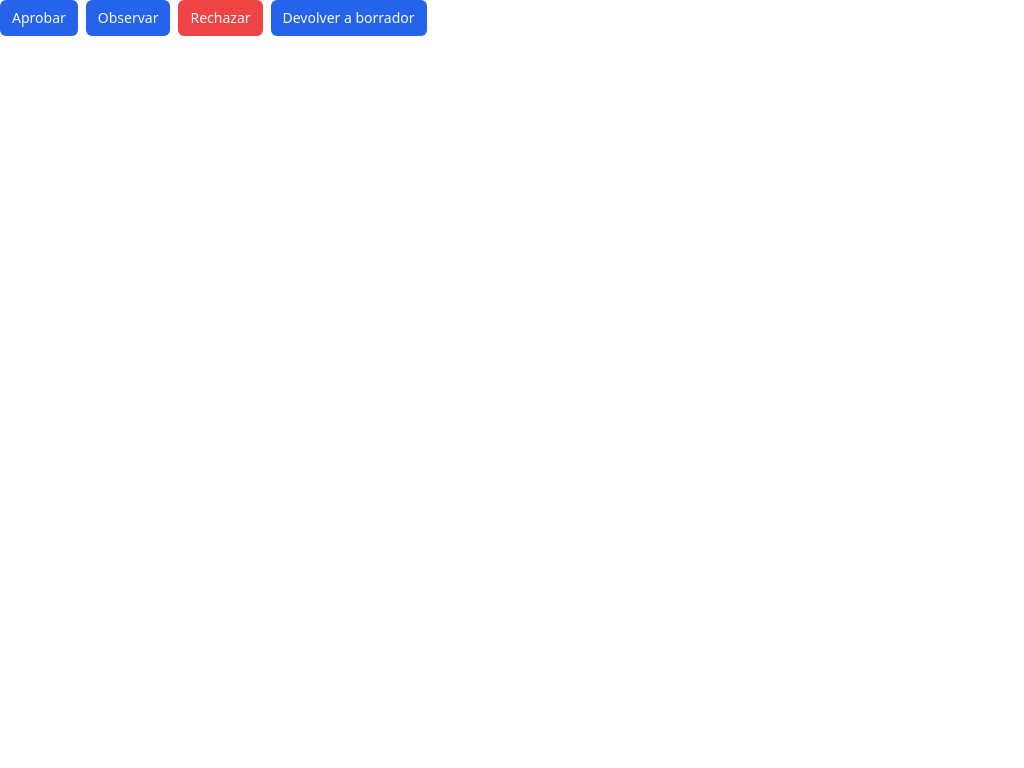
Test: FsmActionBar — reject (RF-041) › cancelling the dialog does not POST and closes it
Click the button "Rechazar".
click(220, 18)  # box [178,0,262,36]
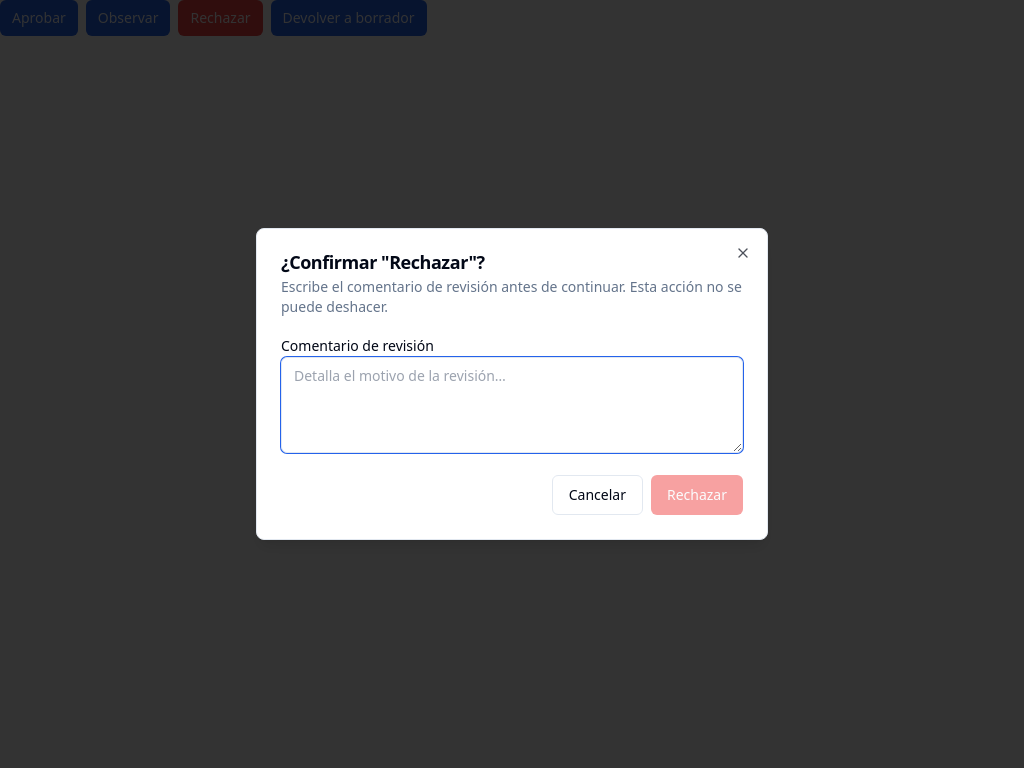
Click the button "Cancelar".
click(597, 495)  # box [552,475,643,515]
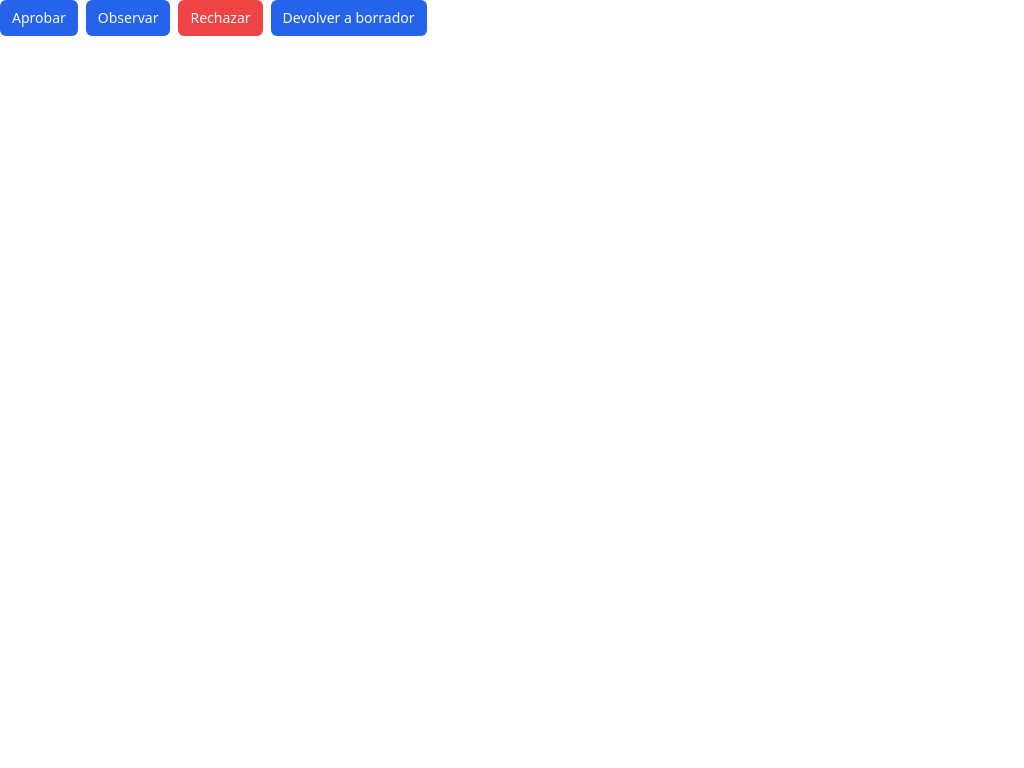
Expected: the dialog is gone
